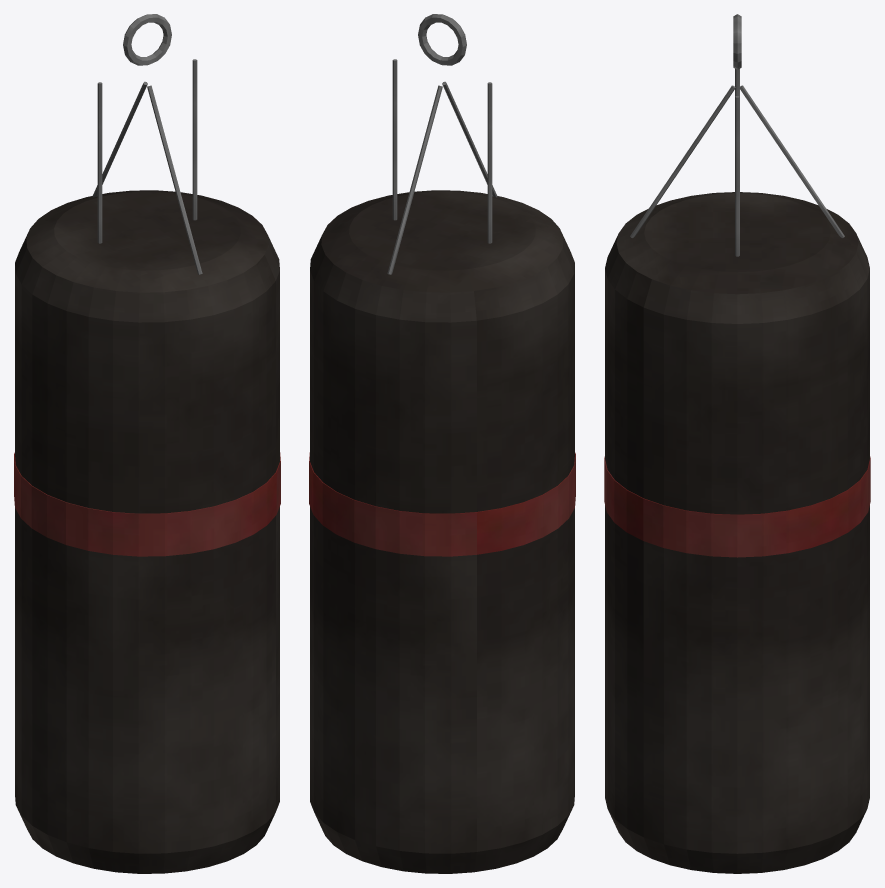
Rendered from SP20_PunchingBag.glb.
The picture shows the model from 3 angles, left to right: view 1: azimuth 30°, elevation 25°; view 2: azimuth 150°, elevation 25°; view 3: azimuth 270°, elevation 25°; orthographic projection.
Visible parts, largest first — view 1: SP20_PunchingBag; view 2: SP20_PunchingBag; view 3: SP20_PunchingBag.
Part boxes in pixels (<box>): SP20_PunchingBag: <box>14,14,280,873</box>; SP20_PunchingBag: <box>309,14,575,873</box>; SP20_PunchingBag: <box>604,14,870,873</box>.
Size of the model in its own units: 0.355 by 1.2 by 0.355.
Materials: 3 (3 with a texture image).
